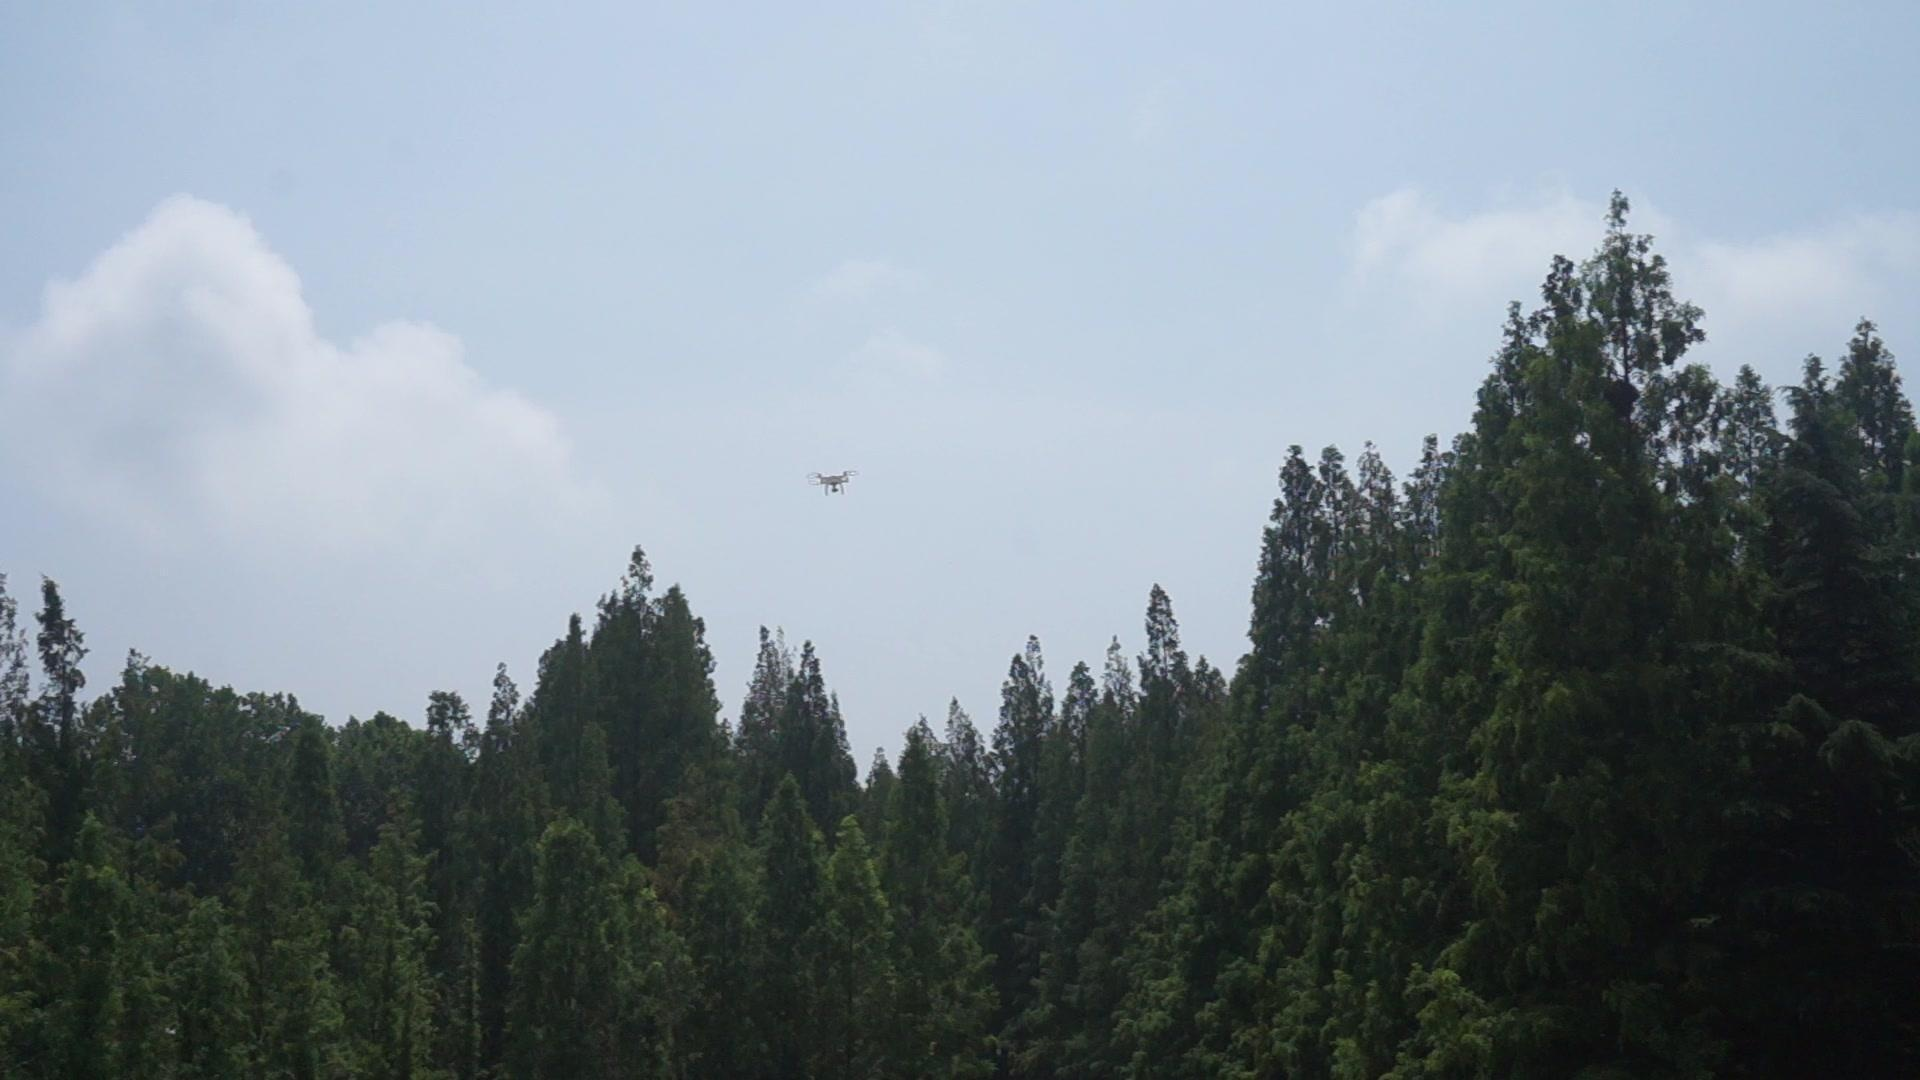UAV: (807, 471, 860, 497)
